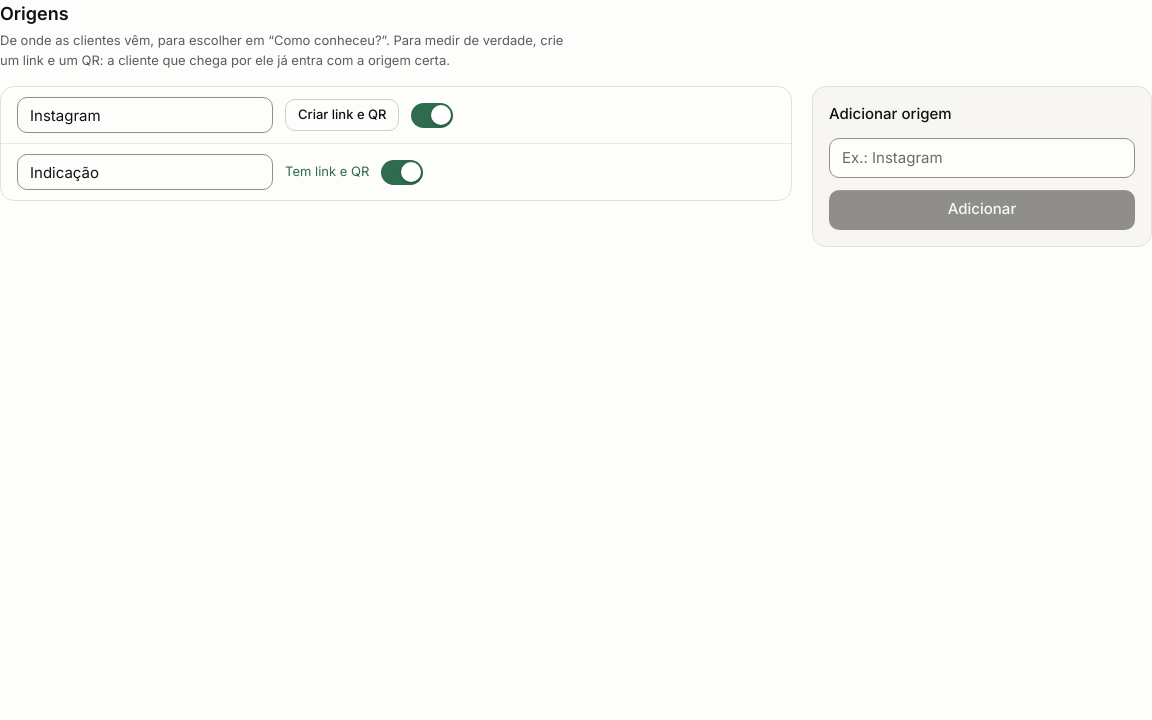
origens numa lista só: a que já tem link aparece assim; 'Criar link e QR' abre a origem com link já com o nome
Expected: the text "Tem link e QR" is shown, 285,162 -> 369,182
Step 1. Click the button with aria-label "Criar link e QR para Instagram" → [342, 115], box 285,99 -> 400,131
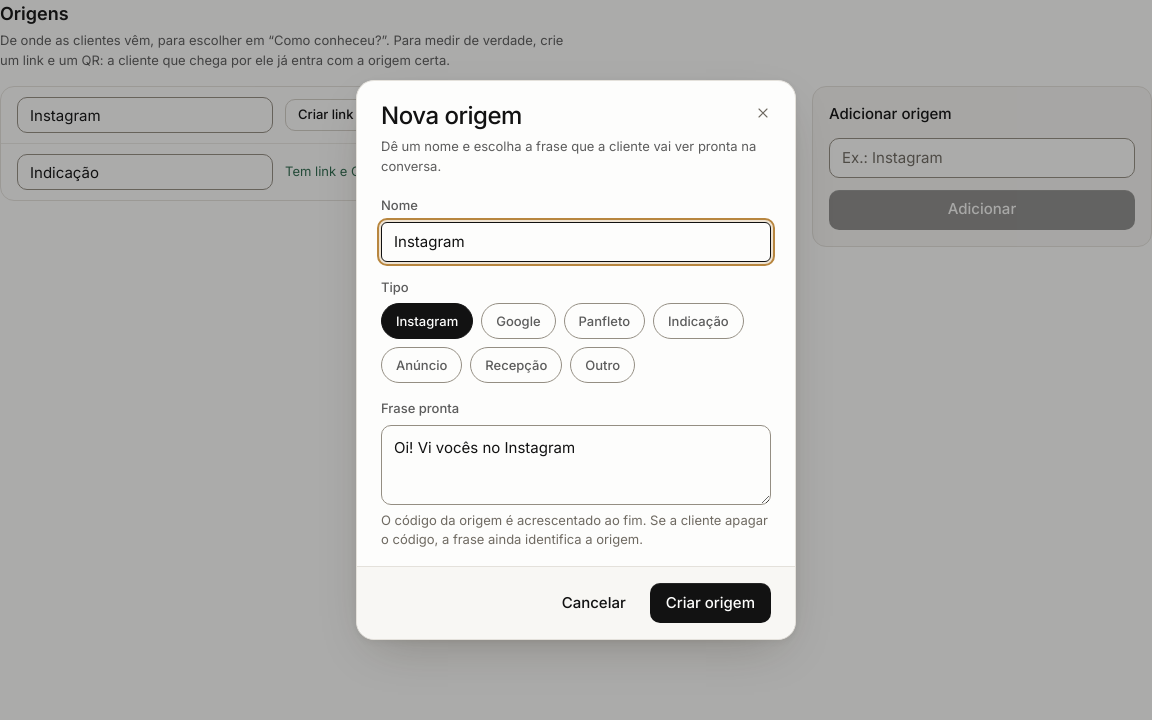
Now the field labelled "Nome" holds "Instagram", box 381,222 -> 771,262
